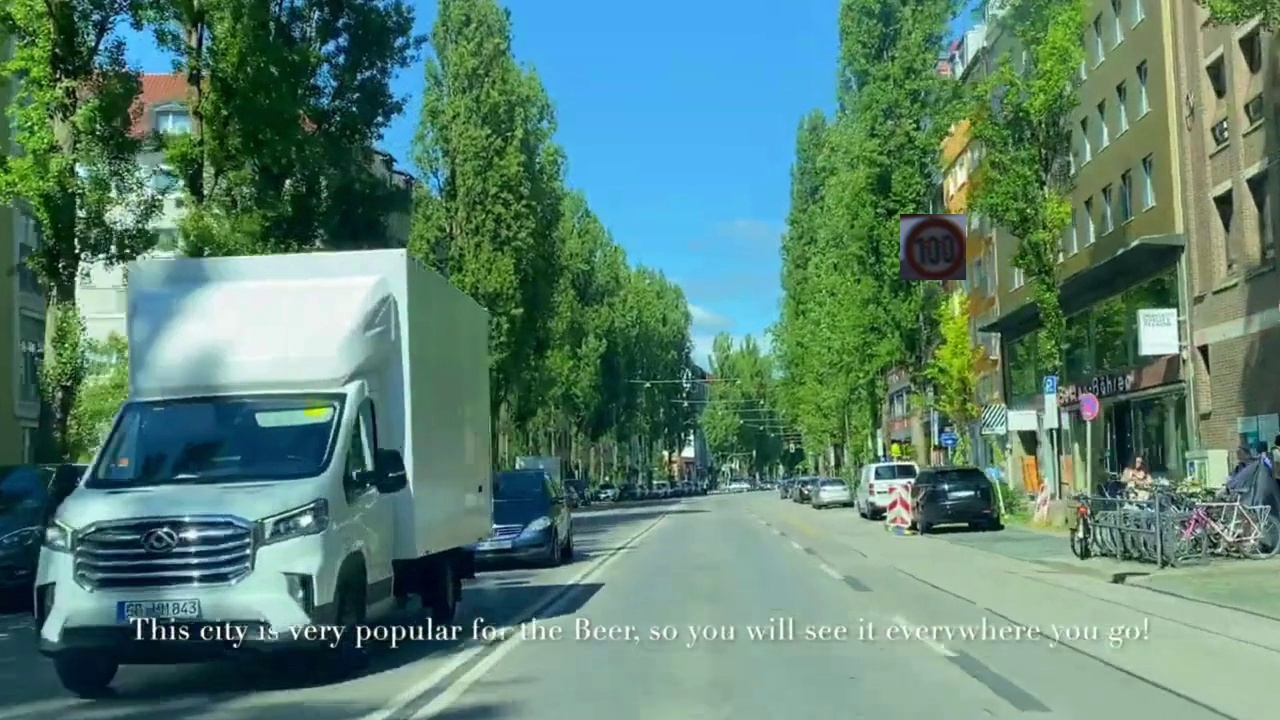Speed 100: (900, 214, 966, 280)
